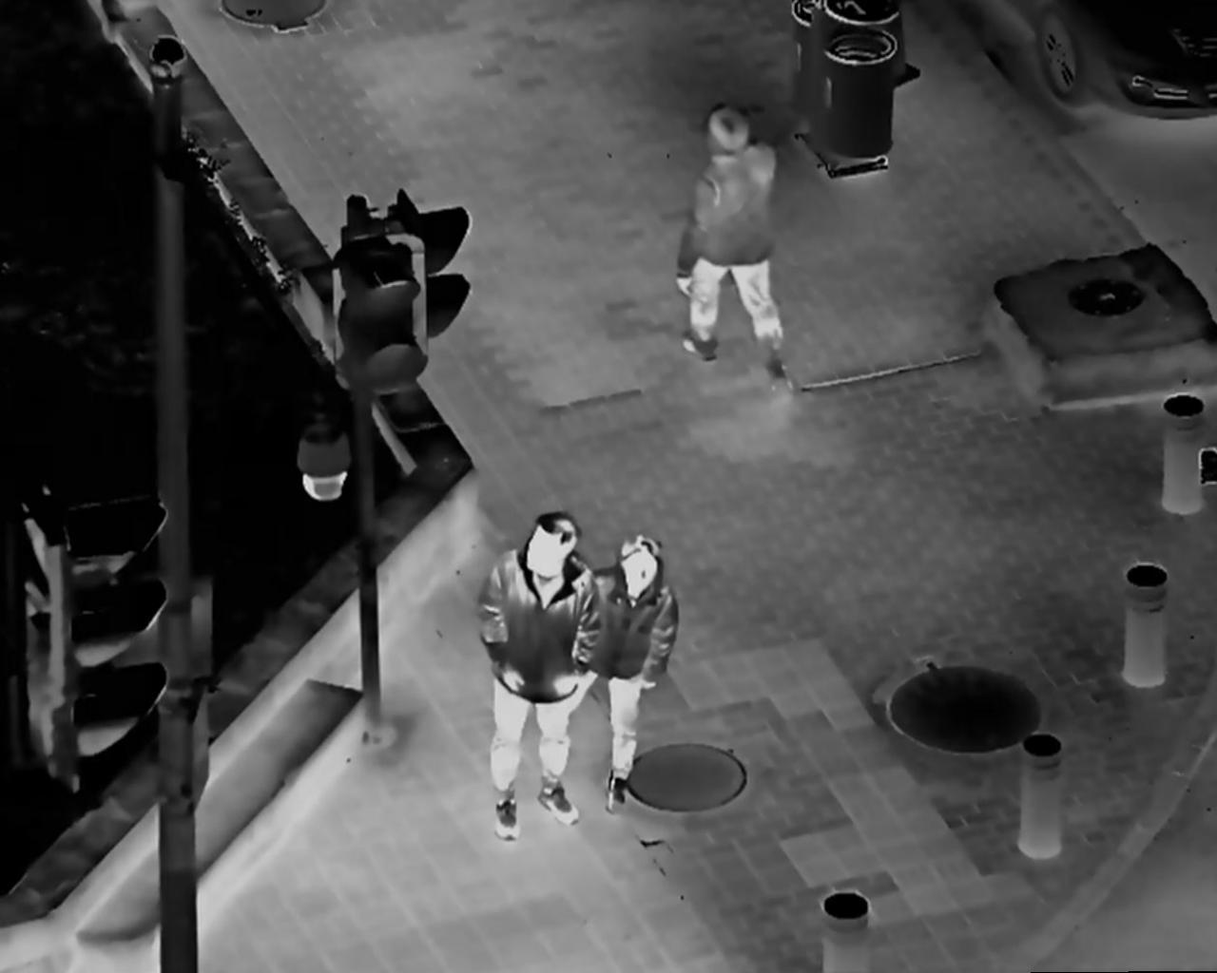person: (471, 506, 603, 840), (670, 98, 799, 399), (589, 531, 684, 824)
